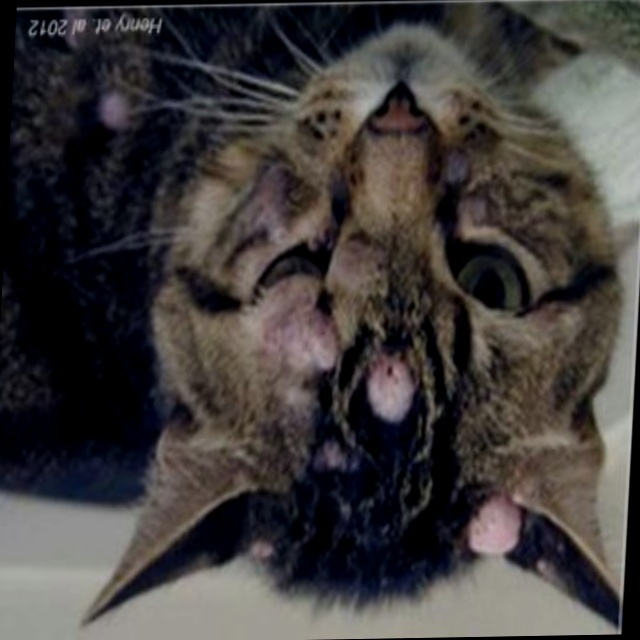lump_and_bump: (255, 299, 344, 373), (460, 497, 526, 560), (367, 362, 412, 421), (96, 86, 127, 133), (443, 150, 467, 184), (247, 537, 271, 559)
